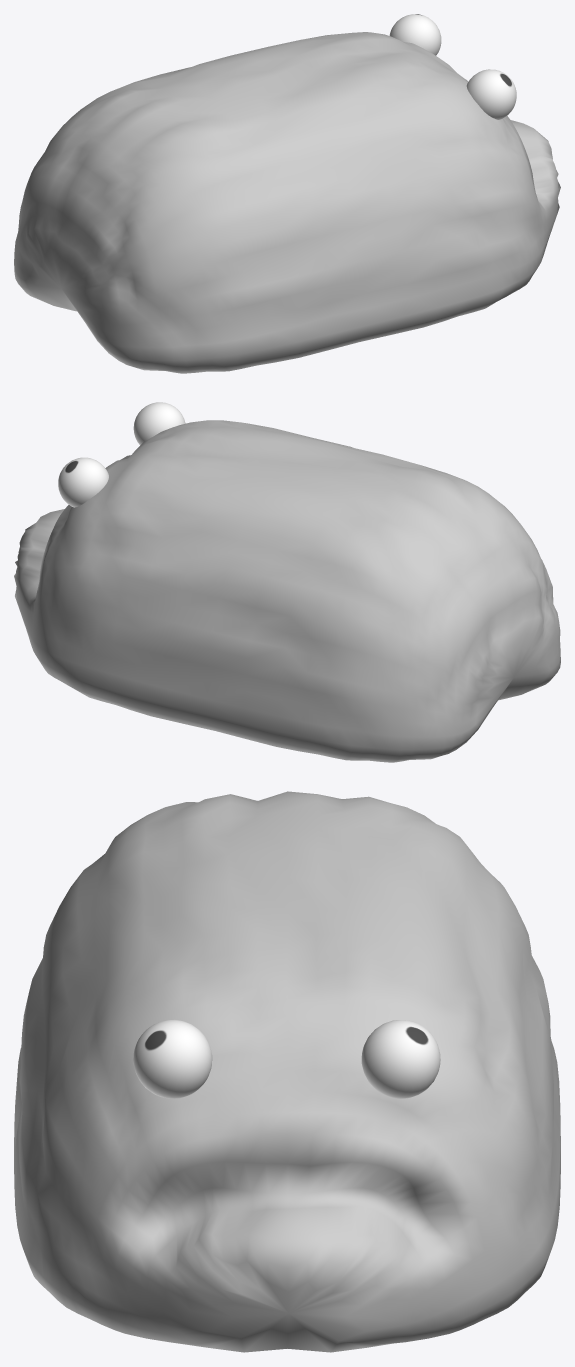
File: SlugBug.fbx
3 views of the same model, one above another, from view 1: azimuth 30°, elevation 25°; view 2: azimuth 150°, elevation 25°; view 3: azimuth 270°, elevation 25° (orthographic). The views are drawn at different scales.
Parts seen in each view (by area): view 1: SlugBug, RightEye, LeftEye; view 2: SlugBug, LeftEye, RightEye; view 3: SlugBug, RightEye, LeftEye.
Boxes of the visible parts, box(x1,y1,x2,y2) form: SlugBug: box(14, 32, 560, 373); RightEye: box(466, 69, 516, 119); LeftEye: box(389, 14, 441, 55); SlugBug: box(14, 420, 560, 762); LeftEye: box(58, 457, 108, 507); RightEye: box(133, 402, 185, 445); SlugBug: box(14, 791, 560, 1352); RightEye: box(133, 1019, 212, 1098); LeftEye: box(361, 1020, 440, 1098).
Size of the model in its own units: 143 by 221 by 98.8.
